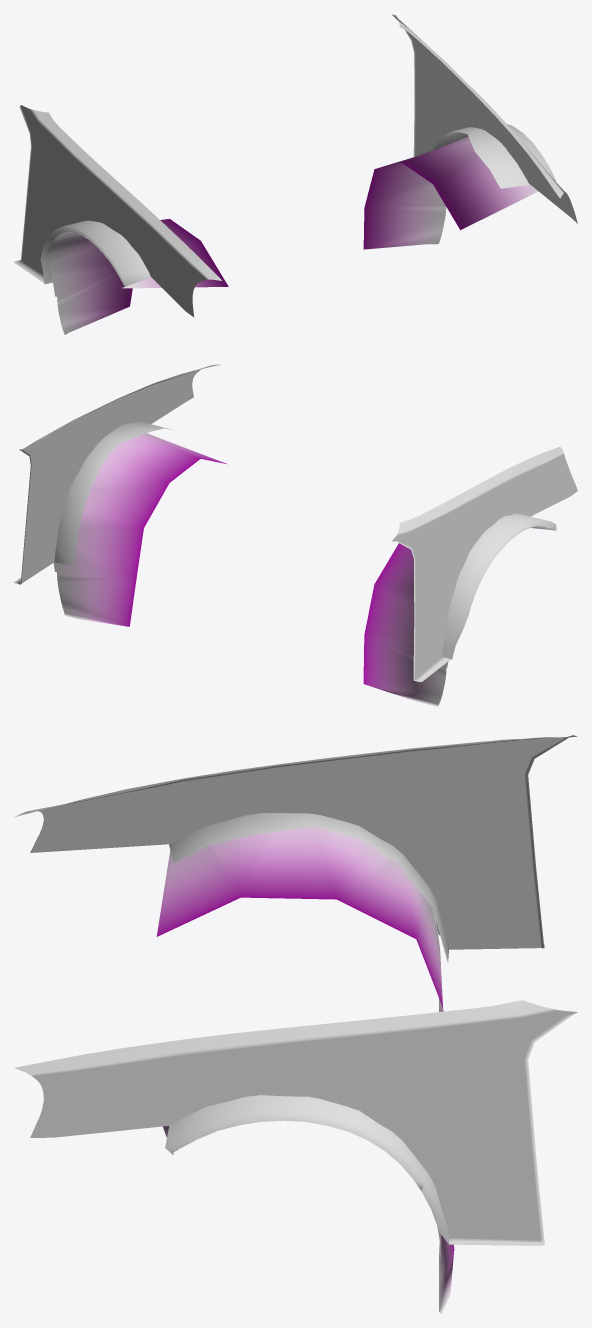
File: Car_Nissan_SkylineGTRVspecR34_1999_FendersChassisF_SetE_AltB.fbx
3 views of the same model, one above another, from view 1: azimuth 30°, elevation 25°; view 2: azimuth 150°, elevation 25°; view 3: azimuth 270°, elevation 25° (orthographic). The views are drawn at different scales.
Parts seen in each view (by area): view 1: FendersChassisF 5; view 2: FendersChassisF 5; view 3: FendersChassisF 5.
Part boxes in pixels (left/top/right/bottom): FendersChassisF 5: left=14, top=14, right=577, bottom=334; FendersChassisF 5: left=14, top=364, right=577, bottom=706; FendersChassisF 5: left=15, top=735, right=577, bottom=1313.
Size of the model in its own units: 1.76 by 0.7743 by 1.3.
